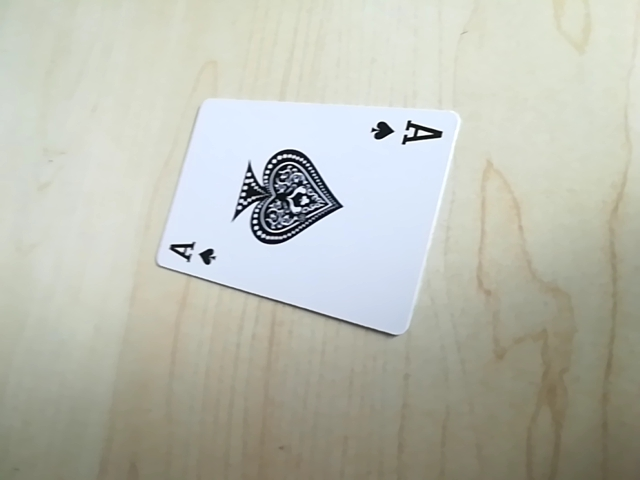ht a: (365, 115, 444, 152), (160, 238, 223, 270)
